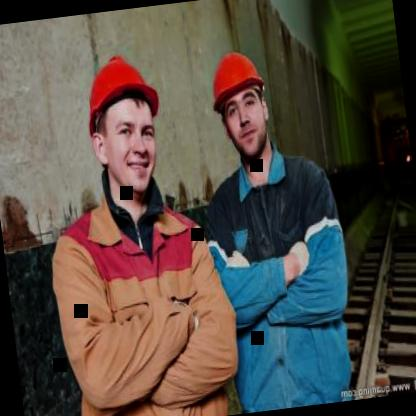helmet: (71, 37, 178, 206), (198, 34, 278, 166)
